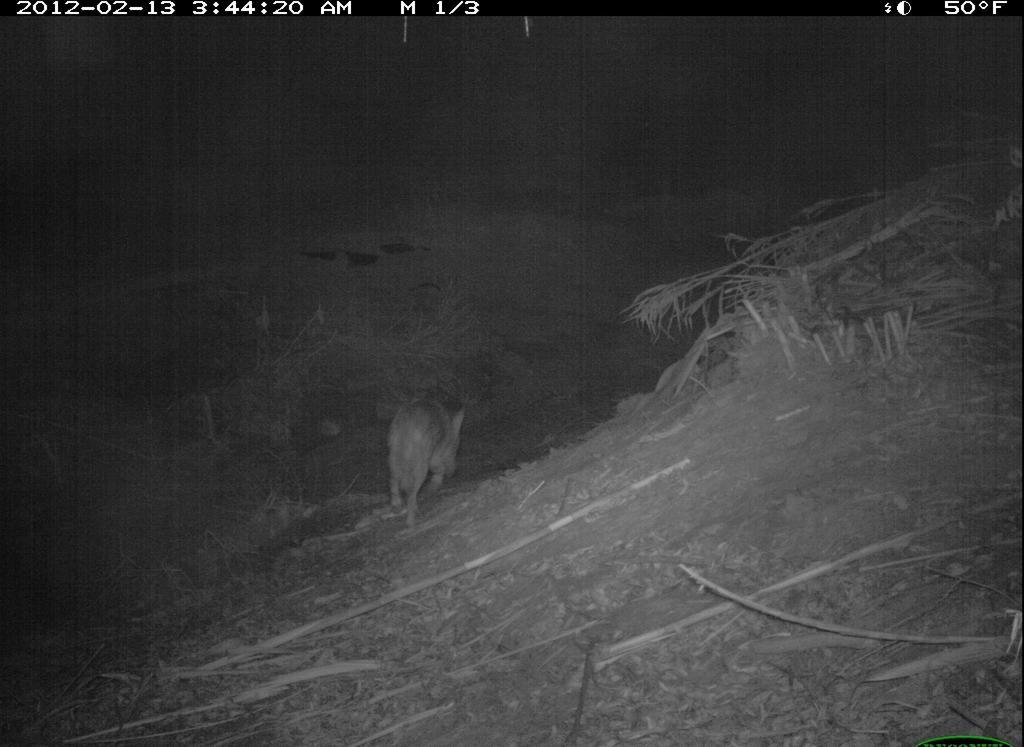coyote: (381, 390, 474, 527)
